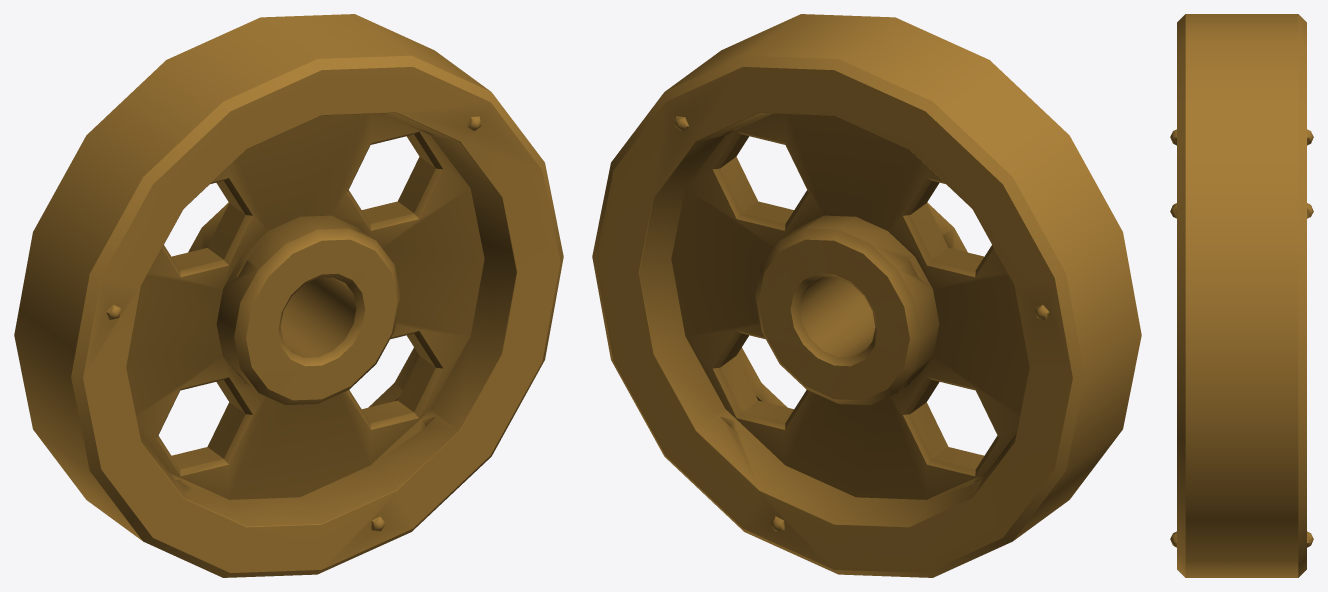
The model's file is flywheel_standard.glb.
3 renders of one model, left to right at view 1: azimuth 30°, elevation 25°; view 2: azimuth 150°, elevation 25°; view 3: azimuth 270°, elevation 25°, orthographic.
Visible parts, largest first — view 1: Flywheel_Standard; view 2: Flywheel_Standard; view 3: Flywheel_Standard.
Boxes of the visible parts, x1,y1,x2,y2 form: Flywheel_Standard: (14,14,563,577); Flywheel_Standard: (592,14,1141,577); Flywheel_Standard: (1170,14,1313,577).
Bounding box in the file's own units: 0.052 × 0.052 × 0.0132.
